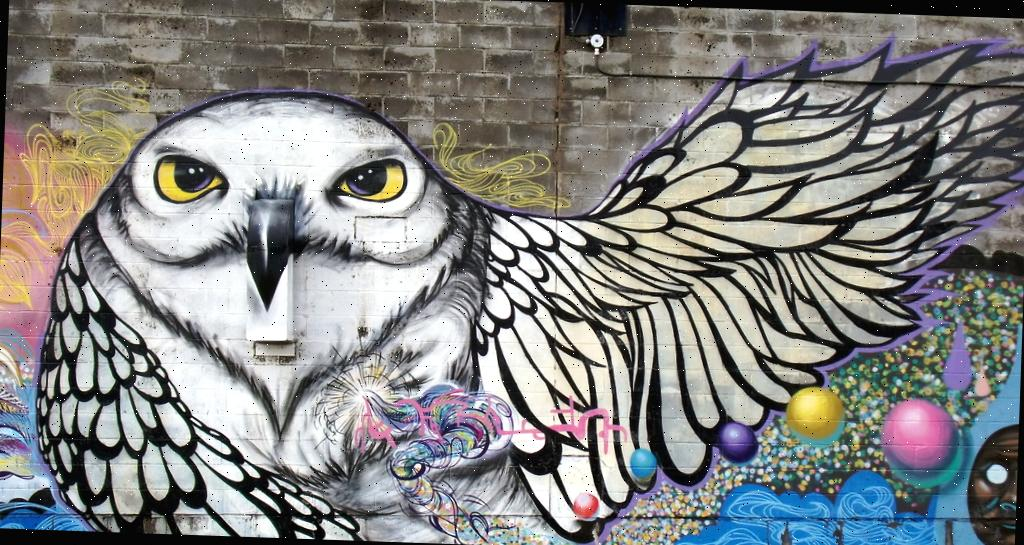Owl: (28, 4, 1024, 545)
